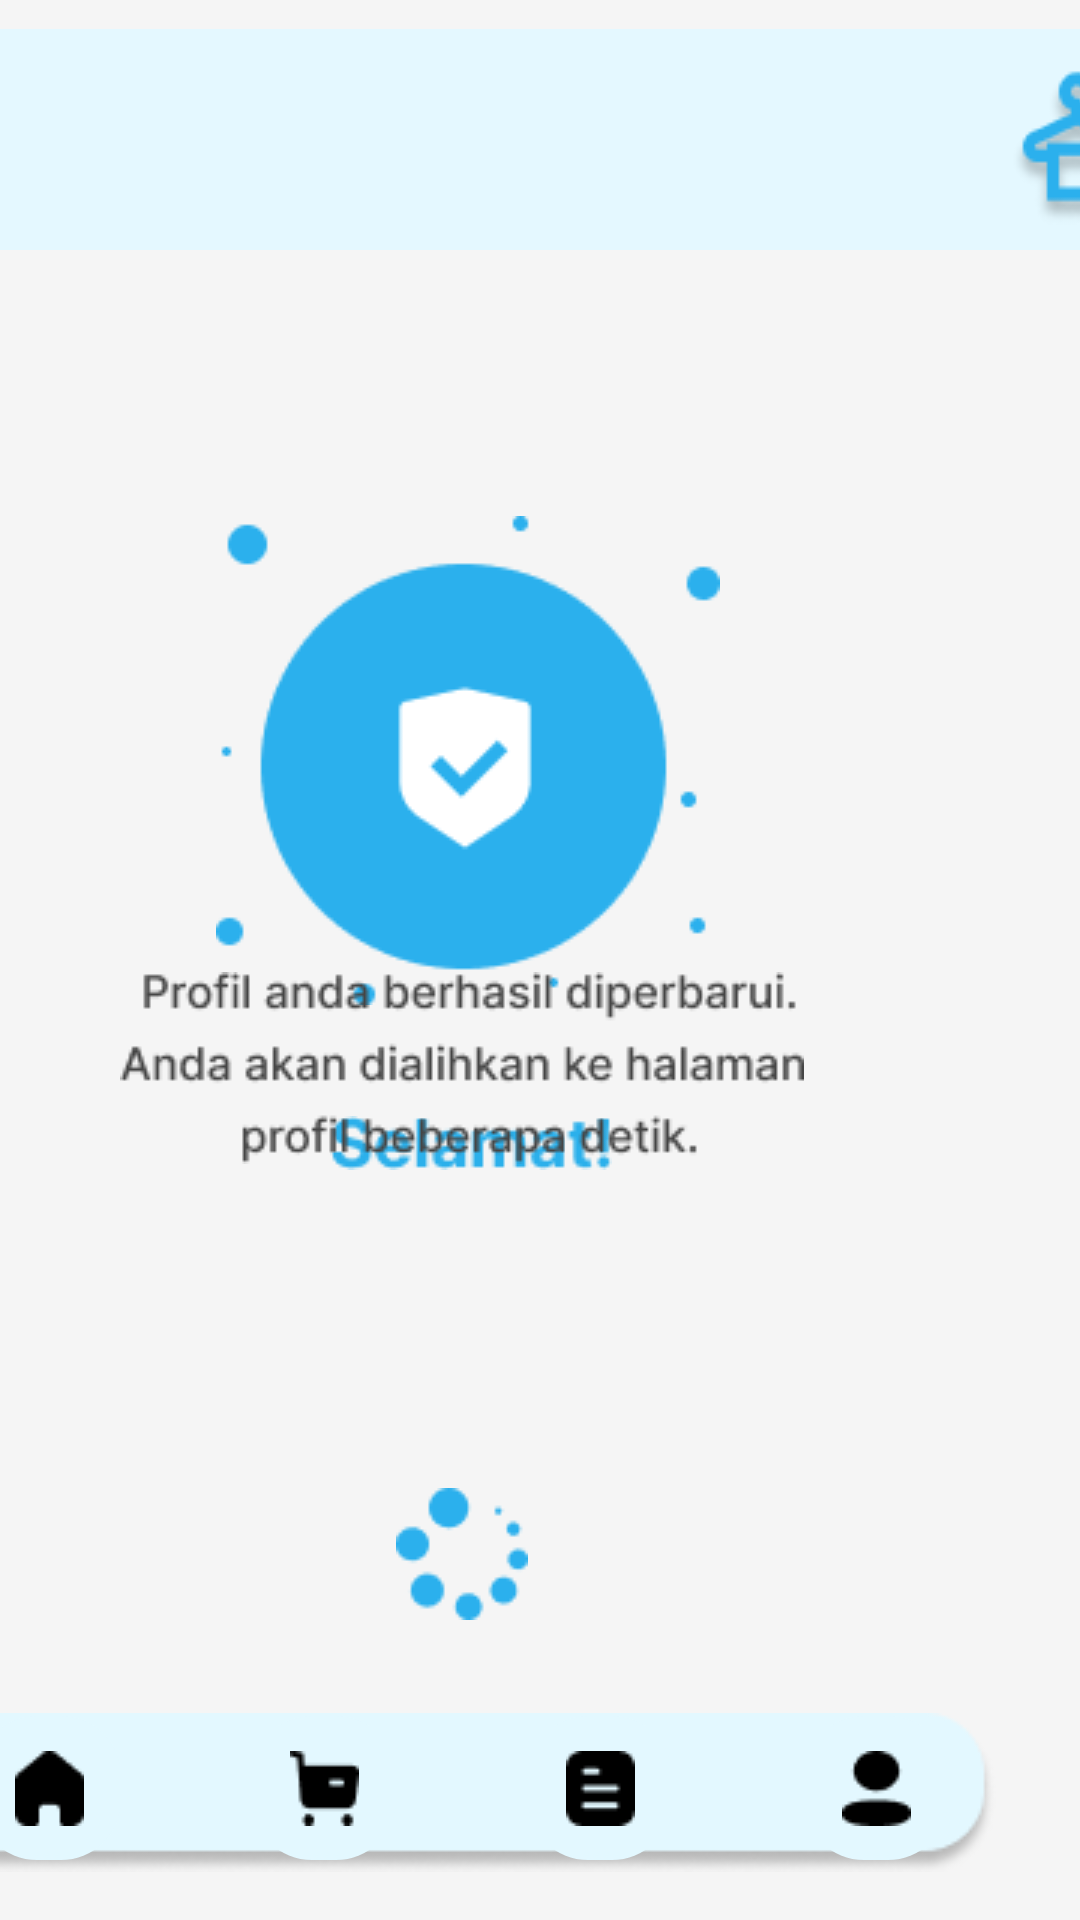

Named icons in this screenshot (1080 × 1920) and their centers, (x,y):
buy: (324,1788)
document: (600,1788)
profile: (876,1788)
uiw loading: (462,1554)
